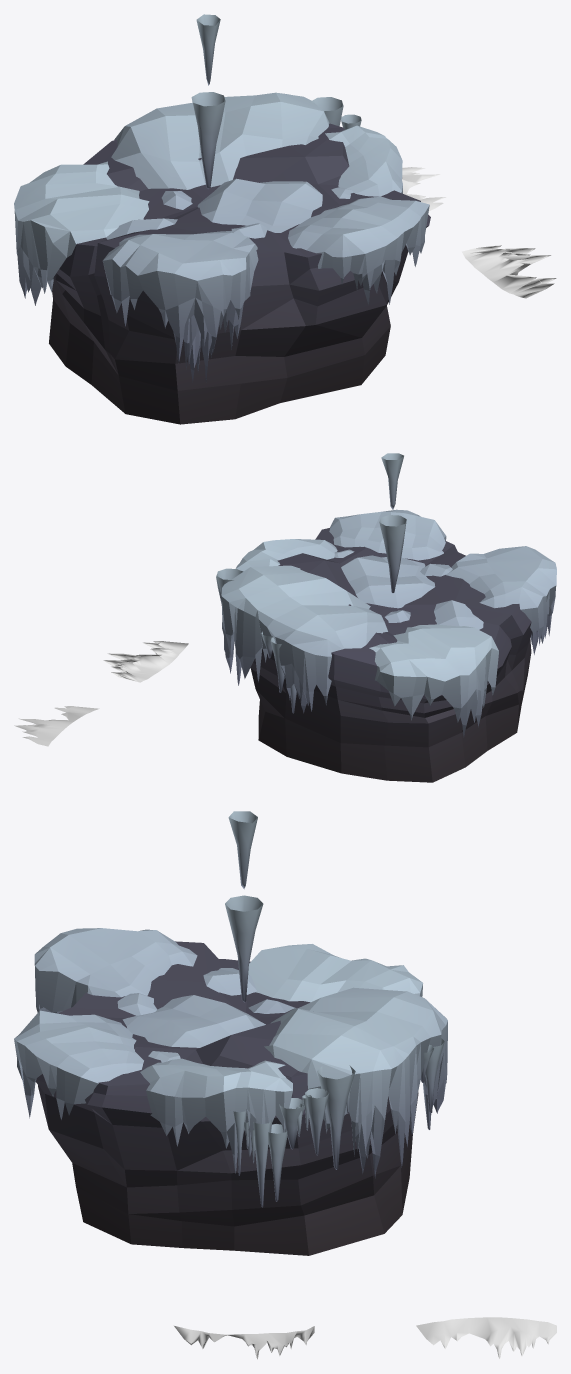
Rendered from cliffmesh01_fredrik.glb.
The picture shows the model from 3 angles, top to bottom: view 1: azimuth 30°, elevation 25°; view 2: azimuth 150°, elevation 25°; view 3: azimuth 270°, elevation 25°; orthographic projection. The views are drawn at different scales.
Visible parts, largest first — view 1: Cube, Plane.004, Plane.007, Plane.008, Plane, Plane.006, Plane.003, Plane.002, Cylinder, Plane.009, Cylinder.011, Plane.001 (+2 smaller); view 2: Cube, Plane.004, Plane.008, Plane.007, Plane, Plane.006, Plane.003, Plane.002, Plane.001, Cylinder, Plane.005, Cylinder.011; view 3: Cube, Plane.004, Plane.007, Plane.003, Plane, Plane.008, Plane.006, Plane.001, Cylinder, Plane.002, Cylinder.005, Cylinder.011 (+5 smaller).
Boxes of the visible parts, box(x1,y1,x2,y2) form: Cube: box(49, 123, 430, 424); Plane.004: box(111, 92, 329, 189); Plane.007: box(102, 231, 258, 362); Plane.008: box(14, 161, 149, 305); Plane: box(288, 196, 429, 304); Plane.006: box(197, 178, 322, 232); Plane.003: box(325, 125, 402, 196); Plane.002: box(462, 245, 556, 298); Cylinder: box(191, 92, 225, 188); Plane.009: box(173, 300, 243, 382); Cylinder.011: box(196, 14, 220, 85); Plane.001: box(402, 167, 445, 211); Cube: box(250, 528, 532, 782); Plane.004: box(221, 565, 387, 713); Plane.008: box(369, 624, 498, 737); Plane.007: box(446, 546, 556, 643); Plane: box(329, 509, 446, 560); Plane.006: box(341, 555, 435, 608); Plane.003: box(235, 539, 337, 571); Plane.002: box(103, 641, 188, 682); Plane.001: box(14, 706, 99, 746); Cylinder: box(379, 515, 406, 592); Plane.005: box(434, 600, 483, 629); Cylinder.011: box(381, 453, 403, 509); Cube: box(35, 941, 418, 1255); Plane.004: box(264, 987, 447, 1178); Plane.007: box(34, 928, 197, 1012); Plane.003: box(140, 1058, 292, 1173); Plane: box(14, 1010, 143, 1119); Plane.008: box(248, 944, 422, 1002); Plane.006: box(122, 995, 265, 1047); Plane.001: box(416, 1317, 556, 1358); Cylinder: box(225, 895, 263, 1002); Plane.002: box(174, 1326, 314, 1359); Cylinder.005: box(317, 1065, 355, 1169); Cylinder.011: box(228, 811, 257, 889).
Size of the model in its own units: 15.56 by 10.2 by 13.46.
1 material, 1 textured.
